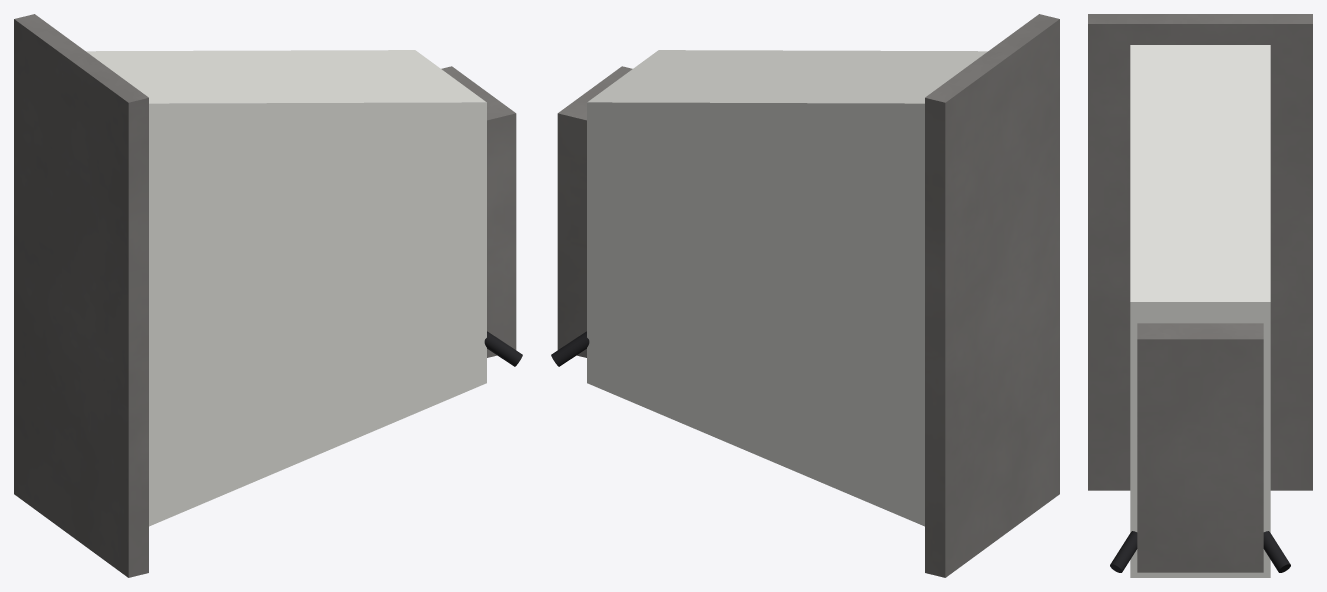
File: struct04_radial_pylon_m.glb
3 views of the same model, side by side, from view 1: azimuth 30°, elevation 25°; view 2: azimuth 150°, elevation 25°; view 3: azimuth 270°, elevation 25° (orthographic).
Parts seen in each view (by area): view 1: pylon, mount_plate, hardpoint; view 2: pylon, mount_plate, hardpoint; view 3: mount_plate, pylon, hardpoint, sway_braces.
Boxes of the visible parts, x1=… form: pylon: x1=86, y1=50, x2=486, y2=526; mount_plate: x1=14, y1=14, x2=148, y2=577; hardpoint: x1=441, y1=66, x2=516, y2=357; pylon: x1=587, y1=50, x2=987, y2=526; mount_plate: x1=925, y1=14, x2=1059, y2=577; hardpoint: x1=557, y1=66, x2=632, y2=357; mount_plate: x1=1088, y1=14, x2=1312, y2=490; pylon: x1=1130, y1=45, x2=1270, y2=577; hardpoint: x1=1137, y1=323, x2=1263, y2=572; sway_braces: x1=1110, y1=531, x2=1290, y2=572.
Bounding box in the file's own units: 1.2 × 1.32 × 0.576.
3 materials, 1 textured.
